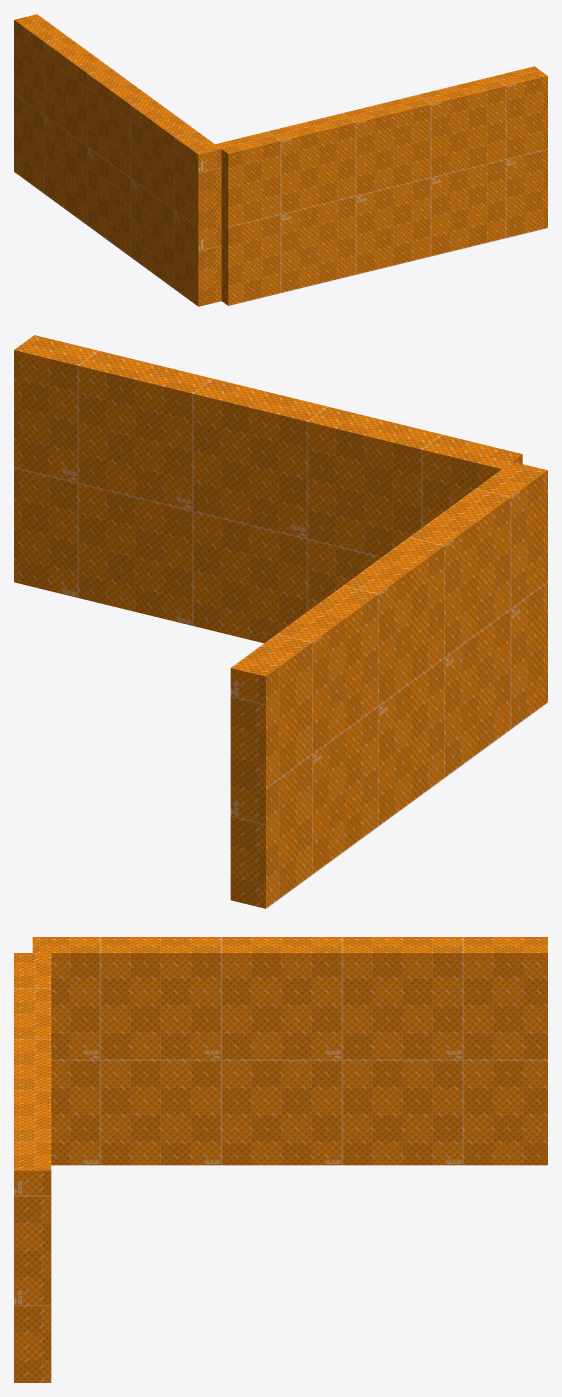
The model's file is test_walls.fbx.
3 views of the same model, one above another, from view 1: azimuth 30°, elevation 25°; view 2: azimuth 150°, elevation 25°; view 3: azimuth 270°, elevation 25° (orthographic). The views are drawn at different scales.
Visible parts, largest first — view 1: Cube, Cube.001; view 2: Cube, Cube.001; view 3: Cube.001, Cube.
Boxes of the visible parts, <box> form: Cube: <box>215,66,547,305</box>; Cube.001: <box>14,14,221,306</box>; Cube: <box>14,335,522,643</box>; Cube.001: <box>230,461,547,908</box>; Cube.001: <box>32,937,547,1165</box>; Cube: <box>14,953,51,1382</box>.
Size of the model in its own units: 1180 by 500 by 1140.
Materials: 1 (1 with a texture image).
